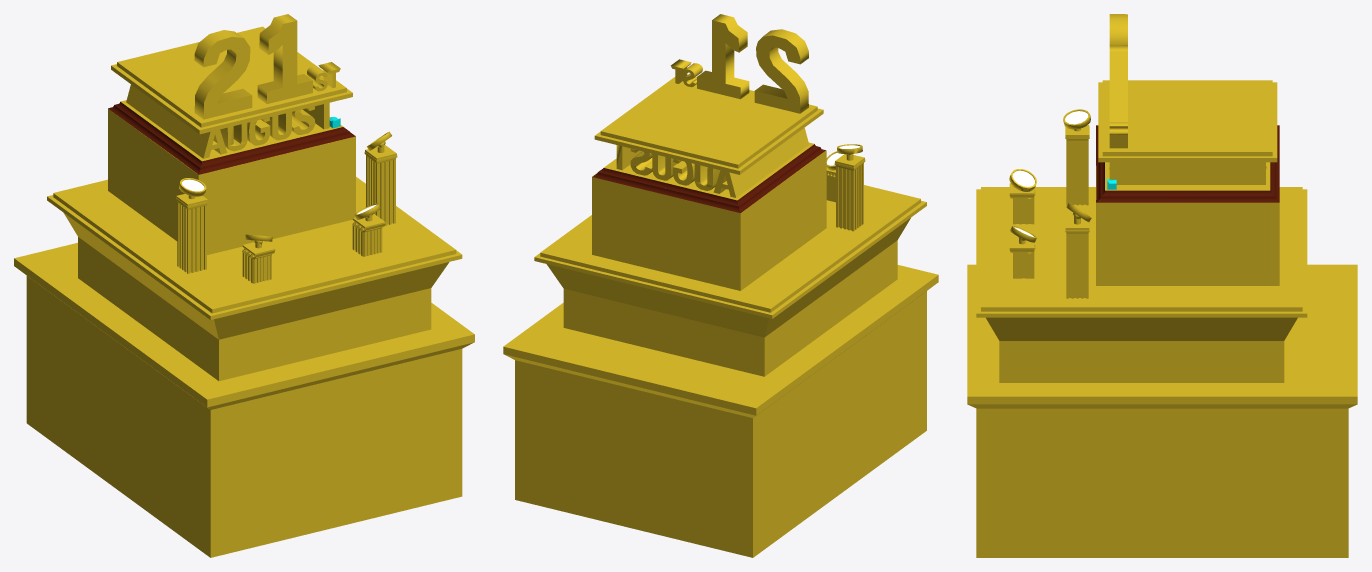
File: 21st_august_monument.glb
3 views of the same model, side by side, from view 1: azimuth 30°, elevation 25°; view 2: azimuth 150°, elevation 25°; view 3: azimuth 270°, elevation 25° (orthographic). The views are drawn at different scales.
Visible parts, largest first — view 1: BottomBase, MiddleBase, MiddleBaseCover, TopLowerBase, TextPlatformUpper, 21Text, TopUpperBase, AugustText, LightPillar, LightPillar4, TextPlatformLower, LightPillar2 (+7 smaller); view 2: BottomBase, MiddleBase, TopLowerBase, MiddleBaseCover, TextPlatformUpper, 21Text, TopUpperBase, AugustText, LightPillar, TextPlatformLower, TopTrim7, CoreBase (+4 smaller); view 3: BottomBase, MiddleBase, MiddleBaseCover, TextPlatformUpper, TopLowerBase, TopUpperBase, AugustText, TextPlatformLower, 21Text, LightPillar4, LightPillar, TopTrim3 (+5 smaller).
Part boxes in pixels (bbox=[...]): BottomBase: bbox=[14, 242, 474, 557]; MiddleBase: bbox=[47, 195, 462, 380]; MiddleBaseCover: bbox=[53, 177, 456, 313]; TopLowerBase: bbox=[108, 128, 355, 254]; TextPlatformUpper: bbox=[117, 26, 346, 127]; 21Text: bbox=[194, 14, 312, 119]; TopUpperBase: bbox=[108, 109, 355, 192]; AugustText: bbox=[126, 84, 329, 158]; LightPillar: bbox=[175, 194, 208, 273]; LightPillar4: bbox=[364, 145, 397, 225]; TextPlatformLower: bbox=[111, 64, 352, 134]; LightPillar2: bbox=[242, 241, 275, 283]; BottomBase: bbox=[503, 265, 938, 557]; MiddleBase: bbox=[534, 200, 926, 376]; TopLowerBase: bbox=[592, 169, 826, 290]; MiddleBaseCover: bbox=[540, 185, 920, 312]; TextPlatformUpper: bbox=[600, 77, 817, 168]; 21Text: bbox=[697, 14, 808, 113]; TopUpperBase: bbox=[592, 150, 826, 231]; AugustText: bbox=[616, 128, 808, 197]; LightPillar: bbox=[834, 154, 865, 231]; TextPlatformLower: bbox=[594, 108, 823, 174]; TopTrim7: bbox=[592, 172, 740, 212]; CoreBase: bbox=[604, 142, 814, 200]; BottomBase: bbox=[967, 264, 1357, 557]; MiddleBase: bbox=[976, 189, 1307, 382]; MiddleBaseCover: bbox=[981, 187, 1302, 311]; TextPlatformUpper: bbox=[1102, 80, 1272, 156]; TopLowerBase: bbox=[1096, 222, 1279, 285]; TopUpperBase: bbox=[1096, 166, 1279, 222]; AugustText: bbox=[1109, 162, 1266, 184]; TextPlatformLower: bbox=[1098, 82, 1277, 162]; 21Text: bbox=[1109, 14, 1127, 122]; LightPillar4: bbox=[1065, 218, 1089, 298]; LightPillar: bbox=[1065, 125, 1089, 205]; TopTrim3: bbox=[1096, 196, 1278, 202].
Size of the model in its own units: 34 by 54.86 by 42.5.
